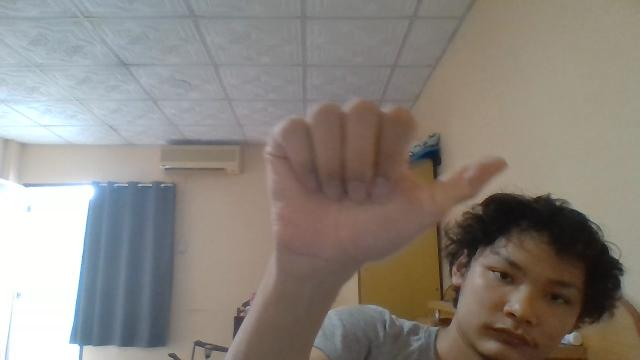left: (263, 97, 509, 270)
